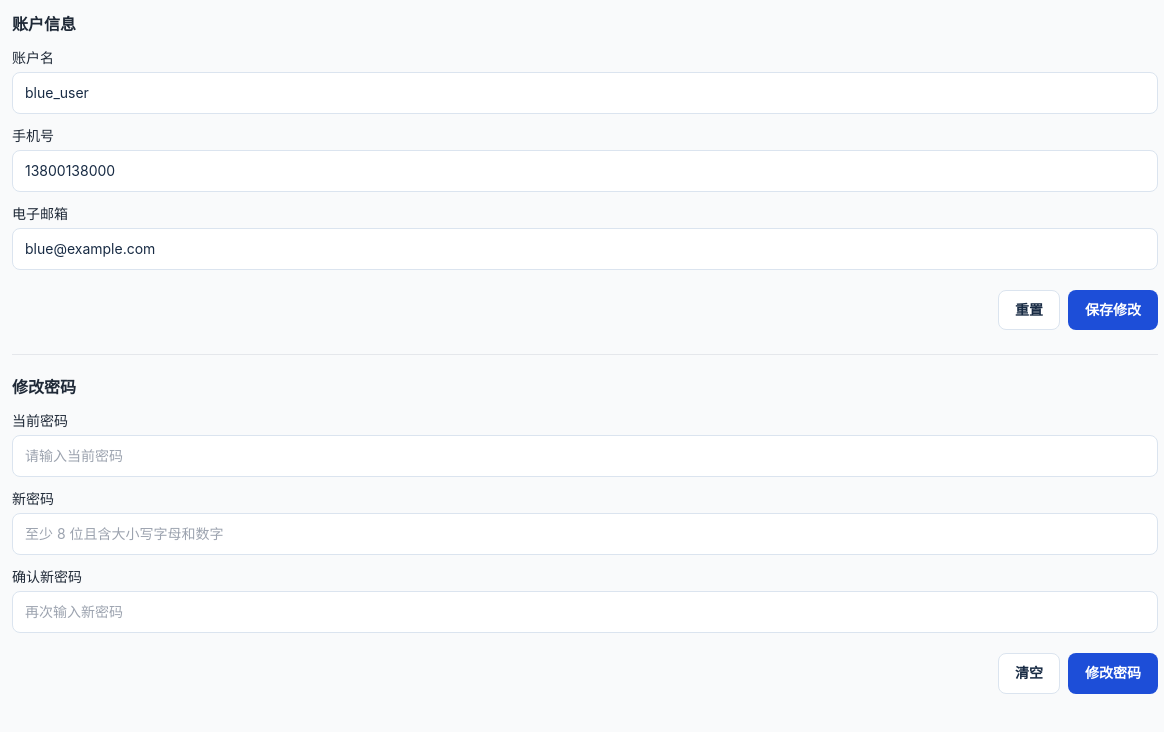
Test: SettingsAccount › warns before changing a contact and clears the warning when reverted or saved
The width and height of the screenshot is (1164, 732).
Check: the text "新的邮箱或手机号暂不能用于验证码登录" is not shown
Replace the text in the field with id "settings-account-email" with "new@example.com": (585, 249) [12,228,1158,270]
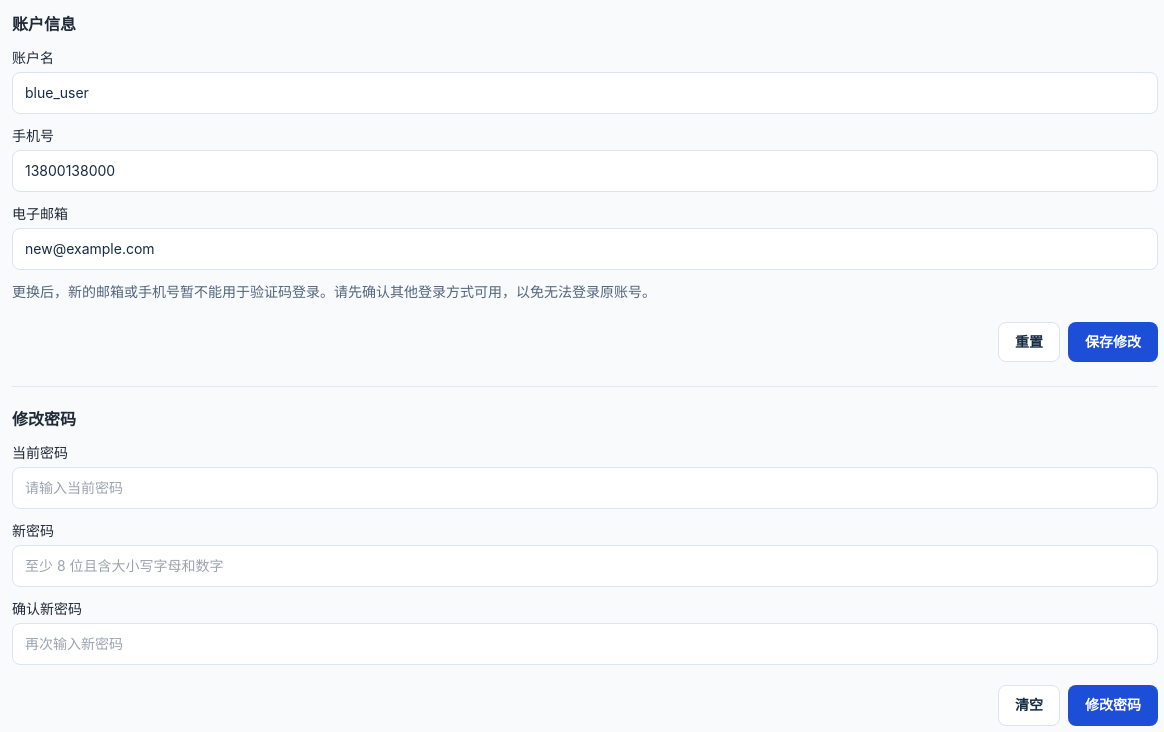
Check: the text "新的邮箱或手机号暂不能用于验证码登录" is shown, box [12,283,656,300]
Replace the text in the field with id "settings-account-email" with "blue@example.com": (585, 249) [12,228,1158,270]
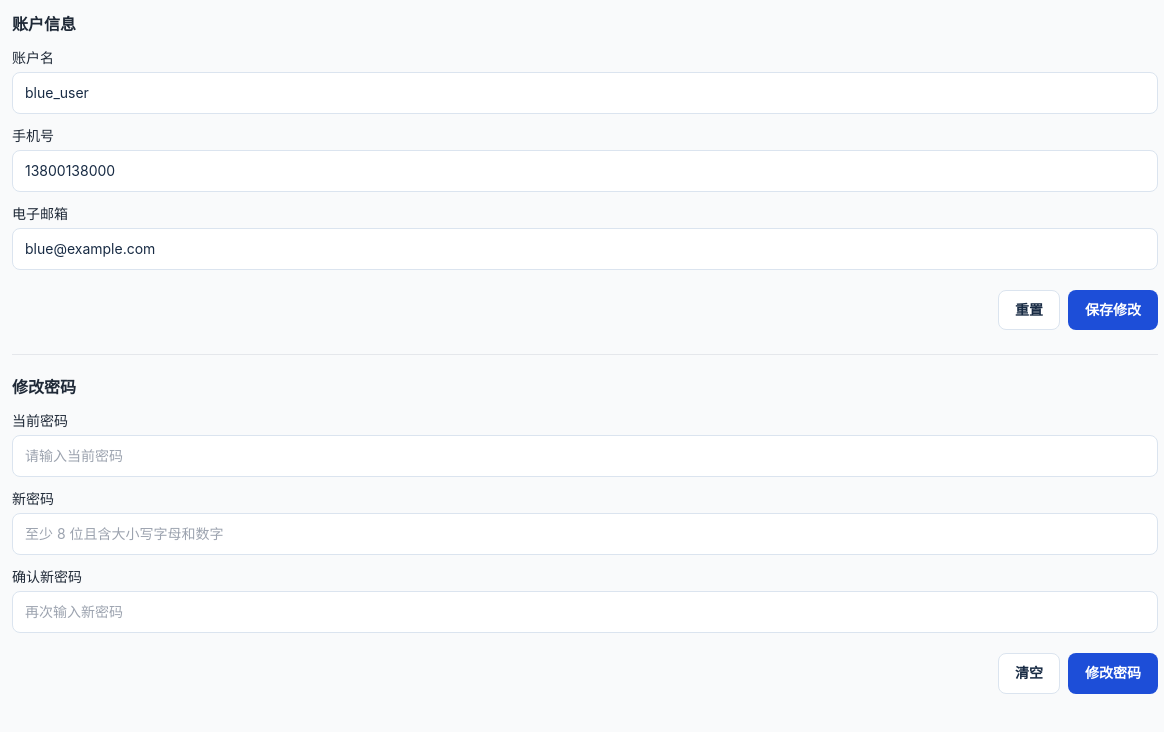
Check: the text "新的邮箱或手机号暂不能用于验证码登录" is gone
Replace the text in the field with id "settings-account-phone" with "13900139000": (585, 171) [12,150,1158,192]
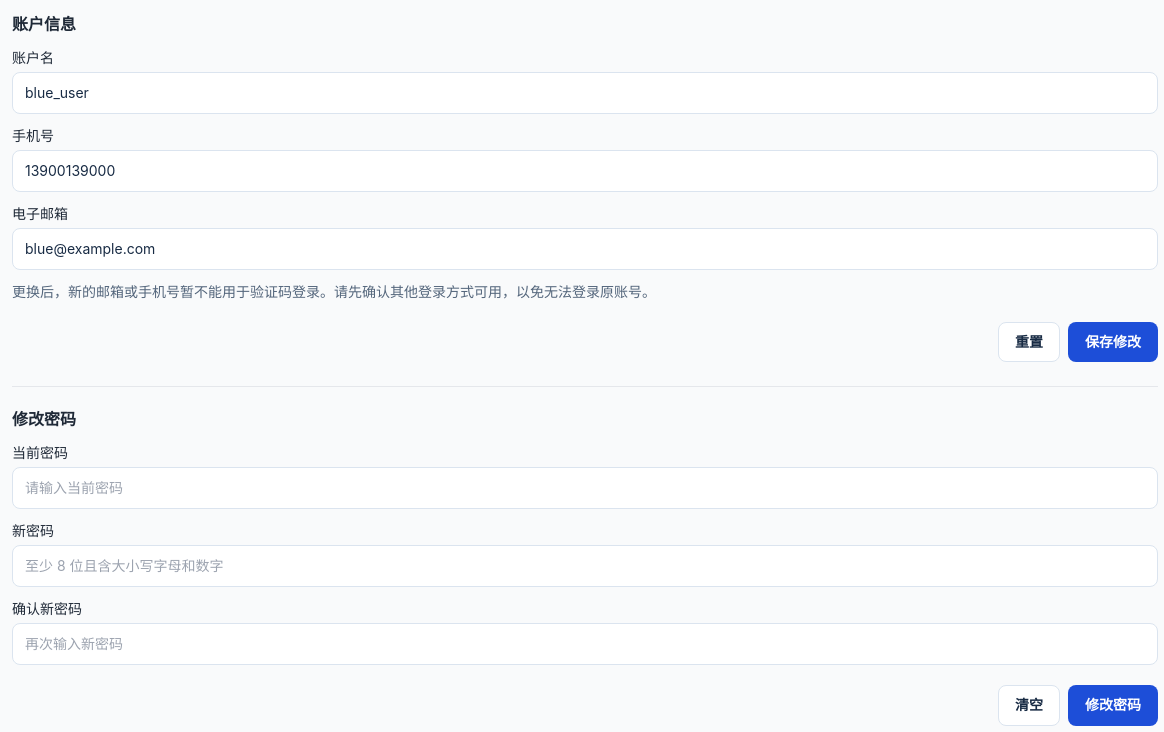
Check: the text "新的邮箱或手机号暂不能用于验证码登录" is shown, box [12,283,656,300]
Click the button "保存修改": (1113, 342) [1068,322,1158,362]
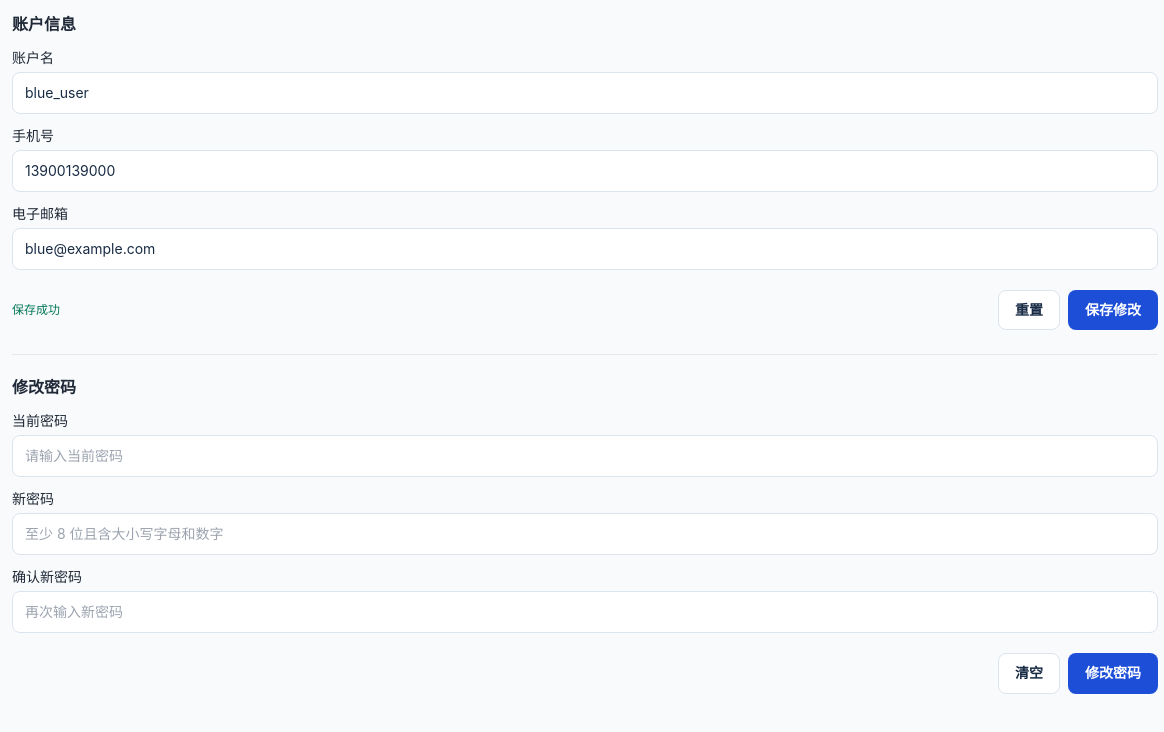
Check: the text "新的邮箱或手机号暂不能用于验证码登录" is gone
